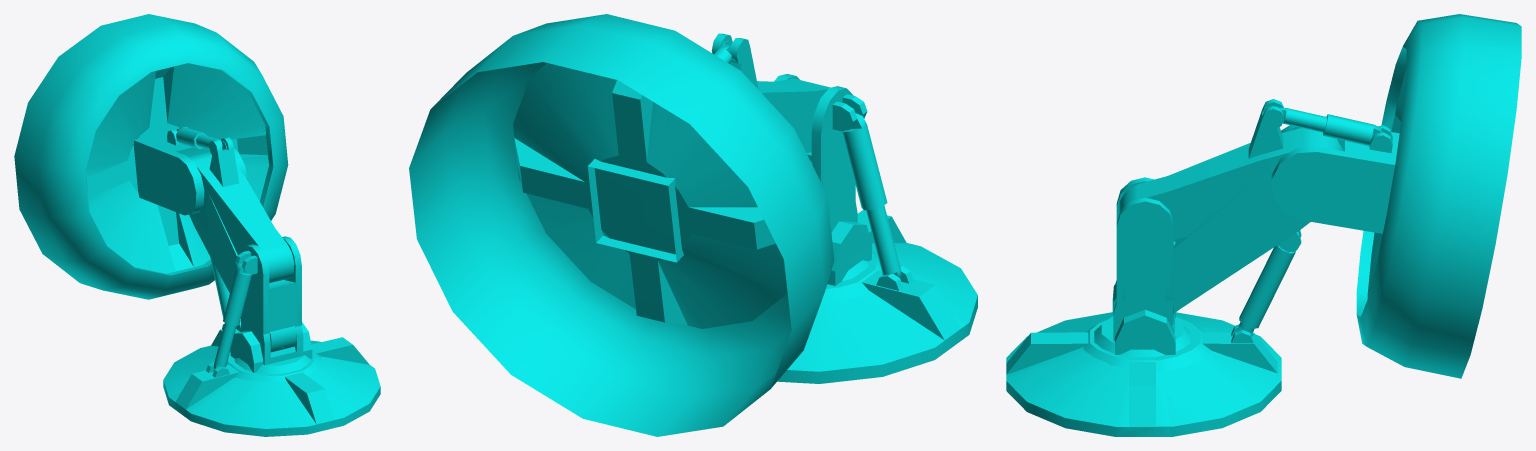
Rendered from build_prop_Strut_02.fbx.
The picture shows the model from 3 angles, left to right: view 1: azimuth 30°, elevation 25°; view 2: azimuth 150°, elevation 25°; view 3: azimuth 270°, elevation 25°; orthographic projection. The views are drawn at different scales.
Parts seen in each view (by area): view 1: Base, Knee_2_1, Knee_3_1, Knee_2_0, Knee_1_0, Knee_3_0; view 2: Base, Knee_3_1, Knee_2_1, Knee_3_0, Knee_2_0, Knee_1_0; view 3: Base, Knee_2_1, Knee_3_1, Knee_1_0, Knee_2_0, Knee_3_0.
Boxes of the visible parts, bbox=[...] form: Base: bbox=[14, 14, 288, 299]; Knee_2_1: bbox=[170, 141, 380, 436]; Knee_3_1: bbox=[163, 237, 321, 420]; Knee_2_0: bbox=[189, 137, 294, 283]; Knee_1_0: bbox=[133, 126, 247, 215]; Knee_3_0: bbox=[206, 236, 295, 377]; Base: bbox=[409, 14, 834, 436]; Knee_3_1: bbox=[777, 74, 967, 383]; Knee_2_1: bbox=[722, 40, 977, 346]; Knee_3_0: bbox=[774, 76, 913, 290]; Knee_2_0: bbox=[711, 33, 830, 152]; Knee_1_0: bbox=[587, 44, 732, 262]; Base: bbox=[1356, 14, 1521, 378]; Knee_2_1: bbox=[1006, 106, 1339, 436]; Knee_3_1: bbox=[1083, 177, 1281, 436]; Knee_1_0: bbox=[1271, 107, 1399, 233]; Knee_2_0: bbox=[1119, 99, 1343, 239]; Knee_3_0: bbox=[1116, 177, 1175, 316].
Bounding box in the file's own units: 54.58 × 58.43 × 78.66.
